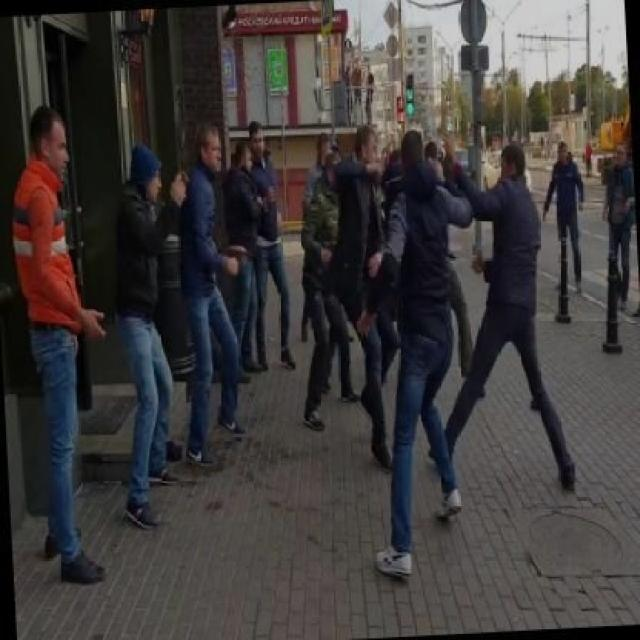fight: (290, 116, 580, 585), (215, 115, 303, 377)
non-fight: (0, 97, 122, 589), (537, 140, 589, 291)
